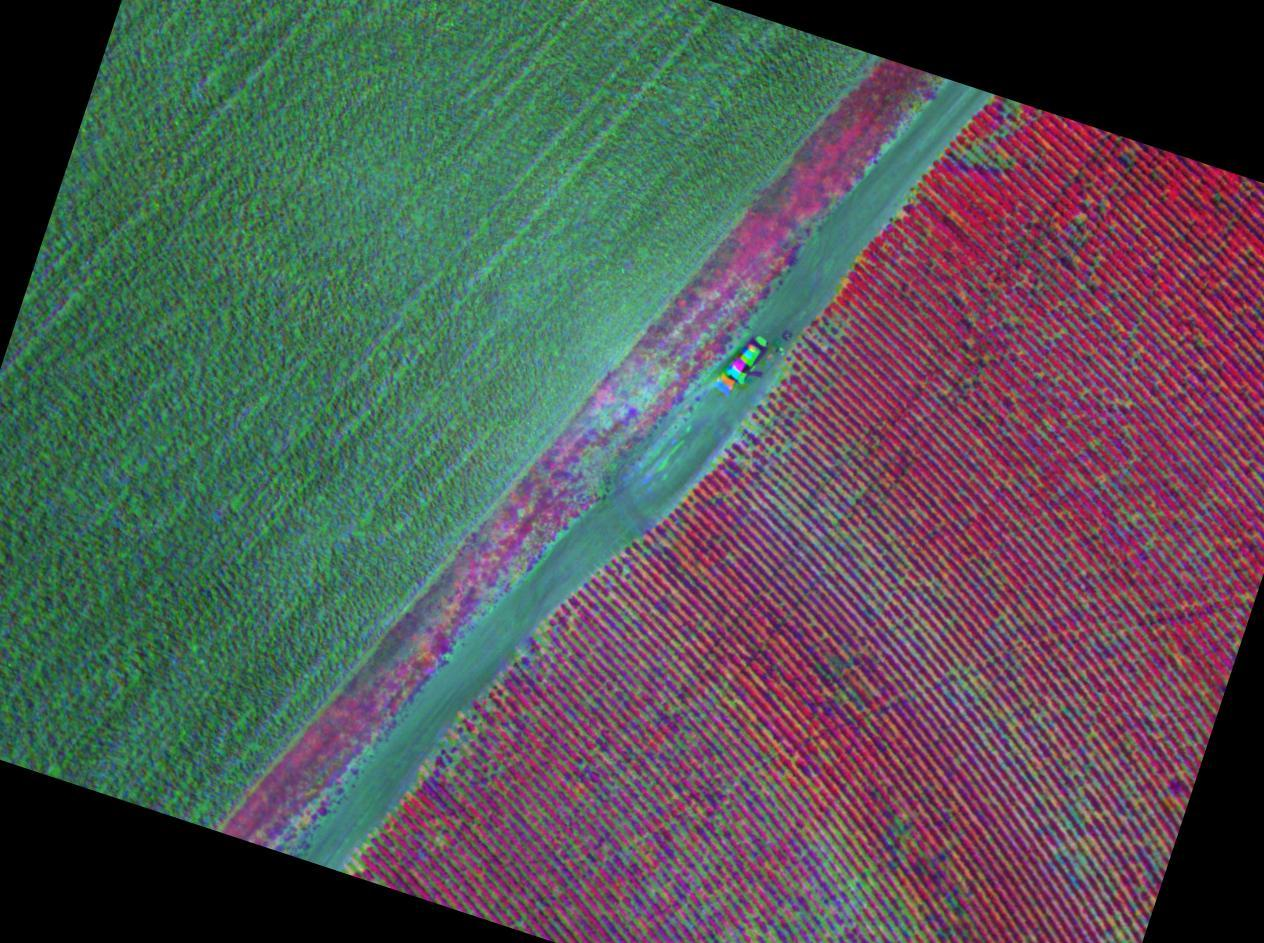dc: (354, 863, 359, 869), (625, 567, 629, 572), (849, 881, 853, 885), (748, 931, 751, 935)
